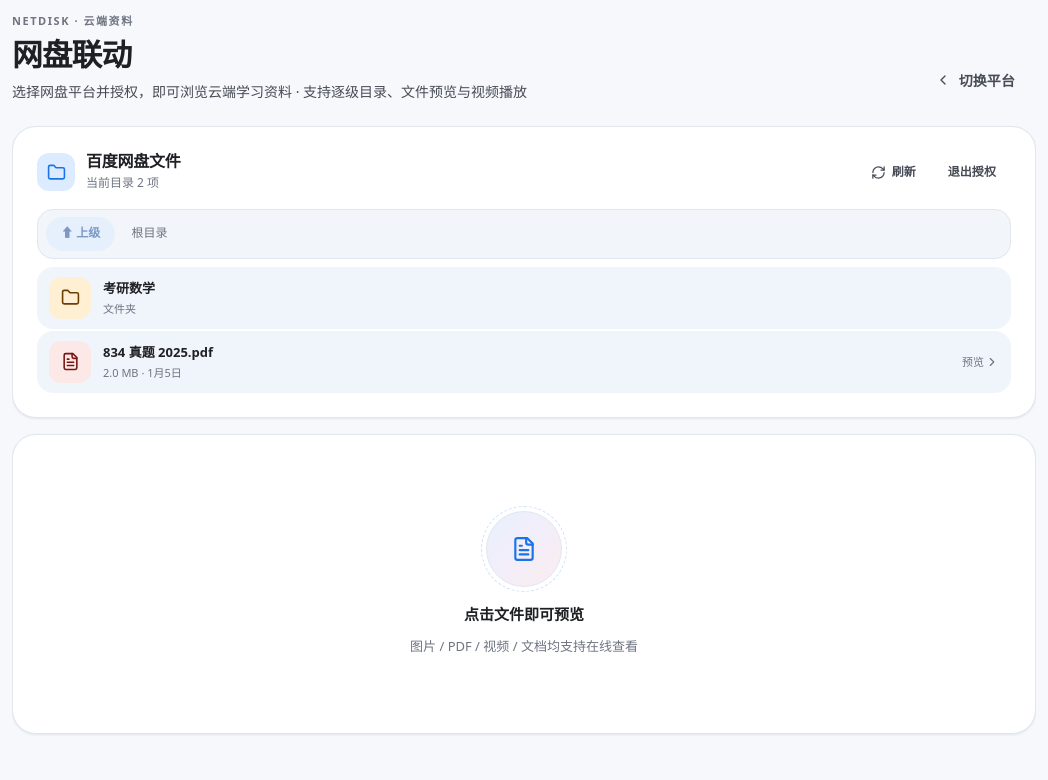
Scenario: 网盘页：授权后进入文件浏览器 › 渲染真实目录列表，文件夹可逐级进入并更新面包屑
Check: the text "834 真题 2025.pdf" is shown, box [103,343,213,361]
Click the text "考研数学": x=129, y=288 [103,279,155,297]
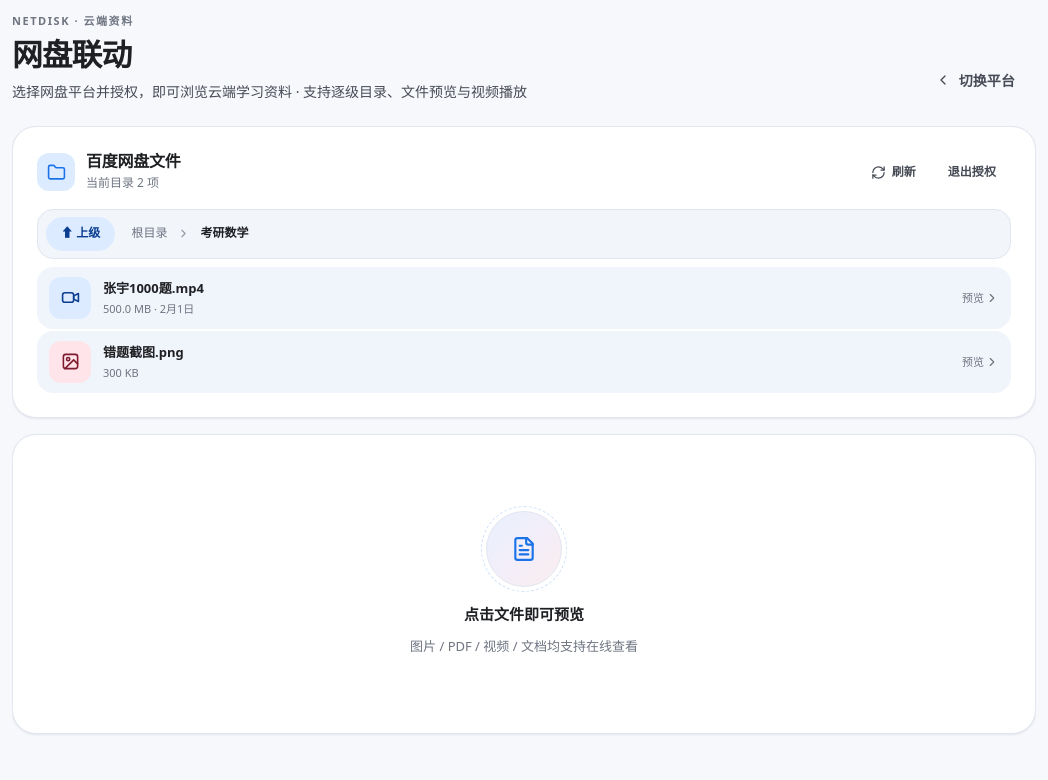
Check: the text "考研数学" is shown, box [200,224,248,241]
Check: the text "张宇1000题.mp4" is shown, box [103,279,204,297]
Check: the button "⬆ 上级" is enabled
Click the button "⬆ 上级": x=81, y=234 [46,217,115,251]
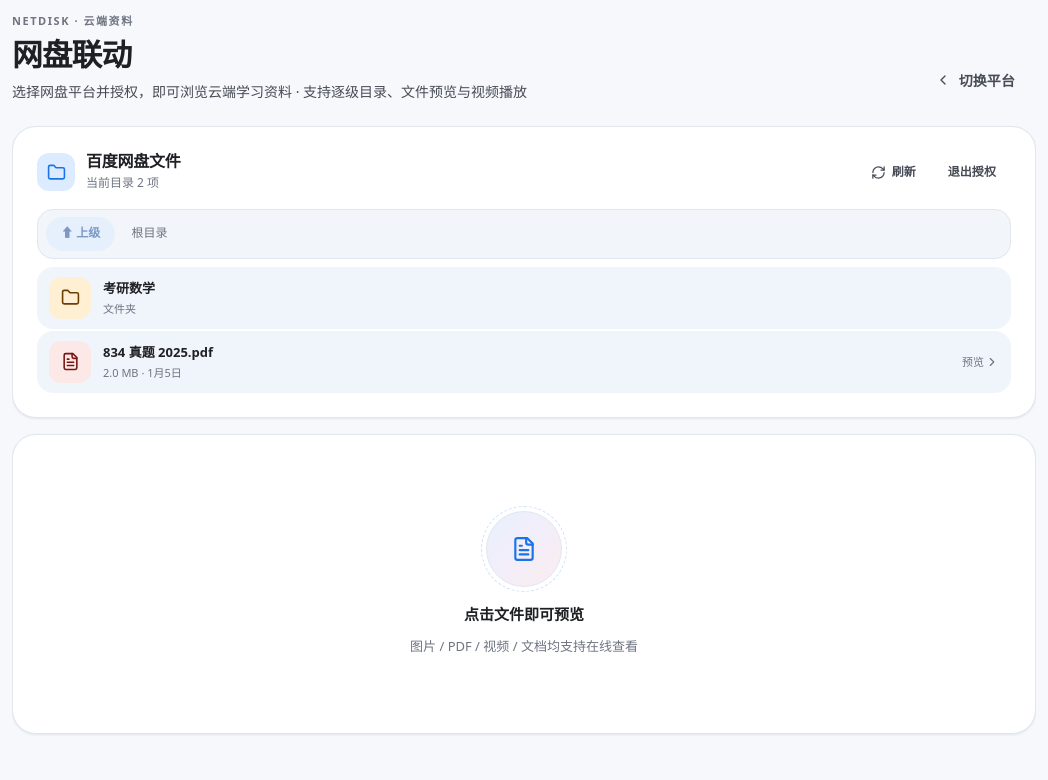
Check: the text "834 真题 2025.pdf" is shown, box [103,343,213,361]
Check: the button "张宇1000题.mp4" is gone
